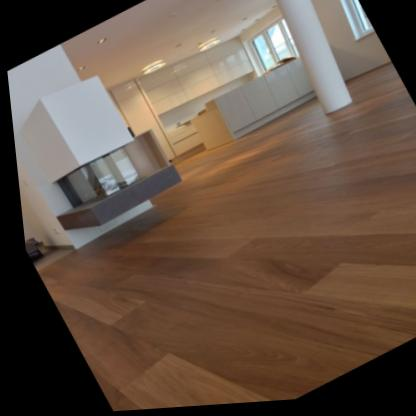Wooden floor: (29, 66, 416, 412)
